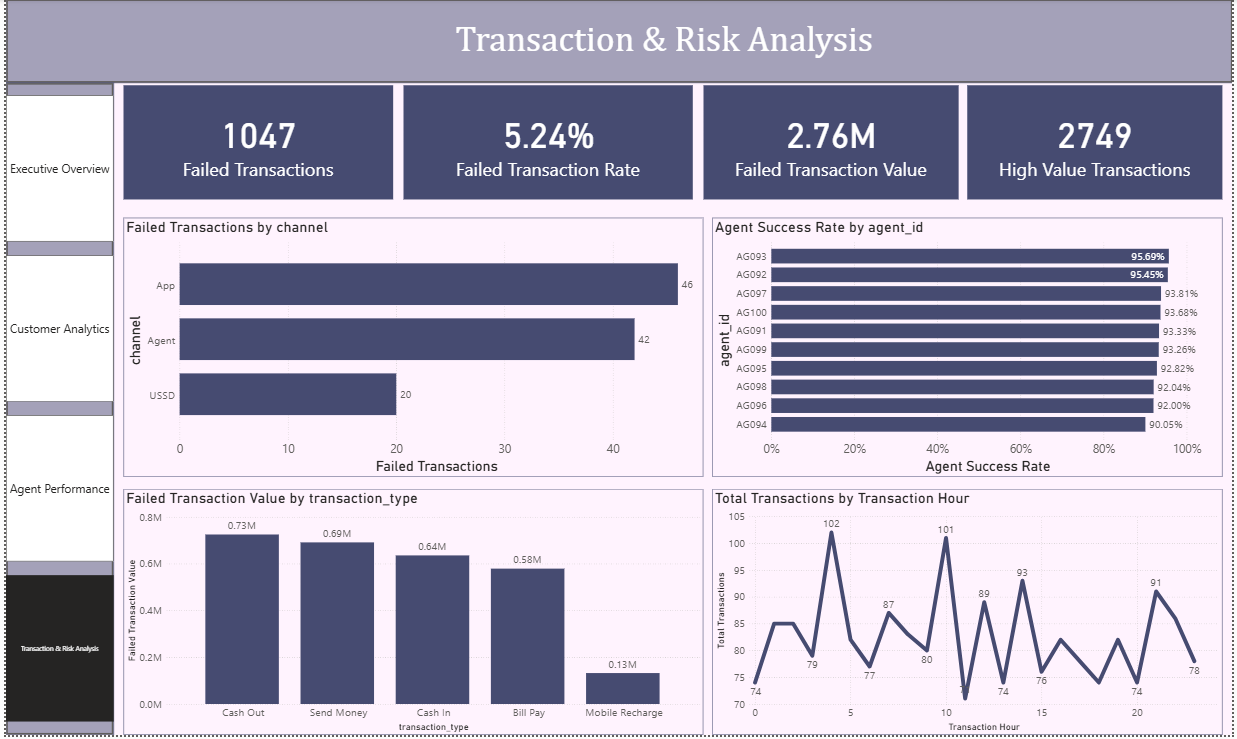

This screenshot's page, from the dashboard's own definition file:
{"tool":"powerbi","page":{"name":"Transaction & Risk Analysis","canvas":[2500,1500],"ordinal":3},"visuals":[{"type":"actionButton","box":[0,0,2500.5,171.5],"z":0},{"type":"actionButton","box":[0,171.5,219.8,1329.3],"z":1000},{"type":"textbox","box":[670,37.5,1342.7,96.5],"z":2000},{"type":"card","fields":{"Values":["Measure.Failed Transactions"]},"box":[238.5,176.9,549.4,233.2],"z":3000},{"type":"card","fields":{"Values":["Measure.Failed Transaction Value"]},"box":[1420.5,176.9,519.9,233.2],"z":4000},{"type":"card","fields":{"Values":["Measure.Failed Transaction Rate"]},"box":[809.4,176.9,589.6,233.2],"z":5000},{"type":"barChart","fields":{"Category":["public transactions.channel"],"Y":["Measure.Failed Transactions"]},"box":[238.5,444.9,1181.9,528],"z":6000},{"type":"barChart","fields":{"Category":["public agents.agent_id"],"Y":["Measure.Agent Success Rate"]},"box":[1439.2,444.9,1039.9,528],"z":7000},{"type":"clusteredColumnChart","fields":{"Category":["public transaction_types.transaction_type"],"Y":["Measure.Failed Transaction Value"]},"box":[238.5,999.7,1181.9,501.2],"z":8000},{"type":"lineChart","fields":{"Y":["Measure.Total Transactions"],"Category":["public transactions.Transaction Hour"]},"box":[1439.2,999.7,1039.9,501.2],"z":9000},{"type":"card","fields":{"Values":["Measure.High Value Transactions"]},"box":[1959.2,176.9,519.9,233.2],"z":10000},{"type":"pageNavigator","box":[0,196.2,219.1,1278.9],"z":10001}]}

Visuals, with their boxes on the page's 2500x1500 design canvas (x1, y1, x2, y2). These are canvas units, not pixel positions in the 1237x739 screenshot, which may show the page scaled, cropped or inside an application window:
actionButton: crop(0, 0, 2500, 172)
actionButton: crop(0, 172, 220, 1501)
textbox: crop(670, 38, 2013, 134)
card - Measure.Failed Transactions: crop(238, 177, 788, 410)
card - Measure.Failed Transaction Value: crop(1420, 177, 1940, 410)
card - Measure.Failed Transaction Rate: crop(809, 177, 1399, 410)
barChart - public transactions.channel x Measure.Failed Transactions: crop(238, 445, 1420, 973)
barChart - public agents.agent_id x Measure.Agent Success Rate: crop(1439, 445, 2479, 973)
clusteredColumnChart - public transaction_types.transaction_type x Measure.Failed Transaction Value: crop(238, 1000, 1420, 1501)
lineChart - Measure.Total Transactions x public transactions.Transaction Hour: crop(1439, 1000, 2479, 1501)
card - Measure.High Value Transactions: crop(1959, 177, 2479, 410)
pageNavigator: crop(0, 196, 219, 1475)
